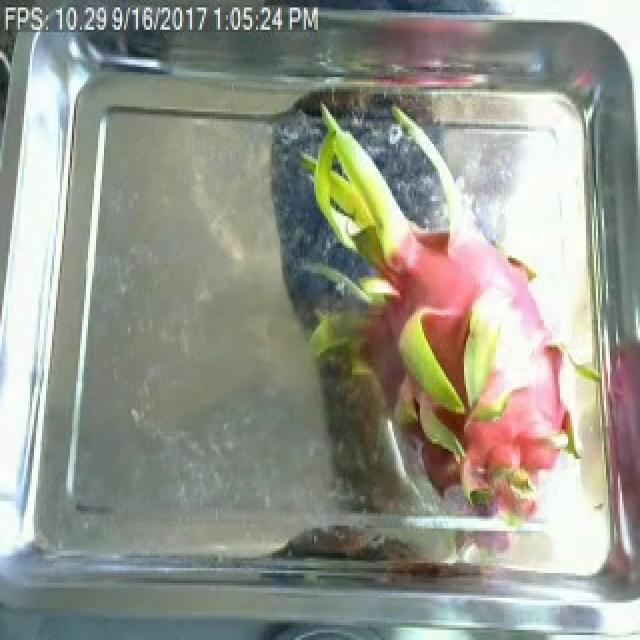fruit: (288, 109, 592, 531)
